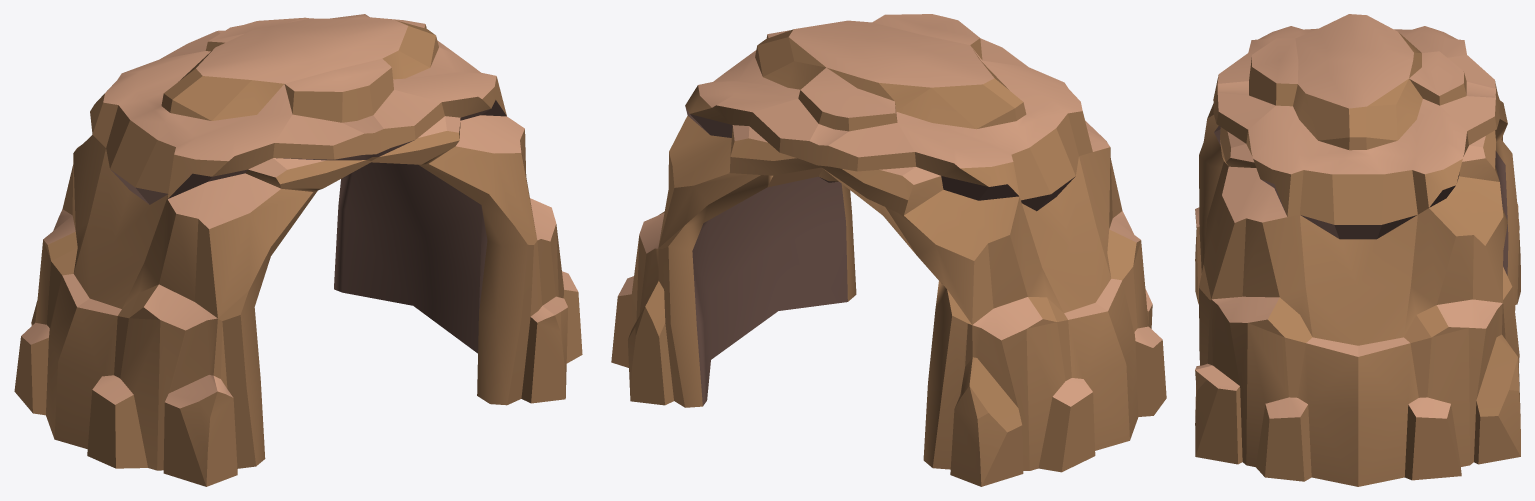
Rendered from BO_CaveGate_01.fbx.
The picture shows the model from 3 angles, left to right: view 1: azimuth 30°, elevation 25°; view 2: azimuth 150°, elevation 25°; view 3: azimuth 270°, elevation 25°; orthographic projection. The views are drawn at different scales.
Parts seen in each view (by area): view 1: BO_Cave_03; view 2: BO_Cave_03; view 3: BO_Cave_03.
Part boxes in pixels (<box>): BO_Cave_03: <box>14,14,582,486</box>; BO_Cave_03: <box>611,14,1166,486</box>; BO_Cave_03: <box>1195,14,1520,486</box>.
Bounding box in the file's own units: 1177 × 762 × 718.
